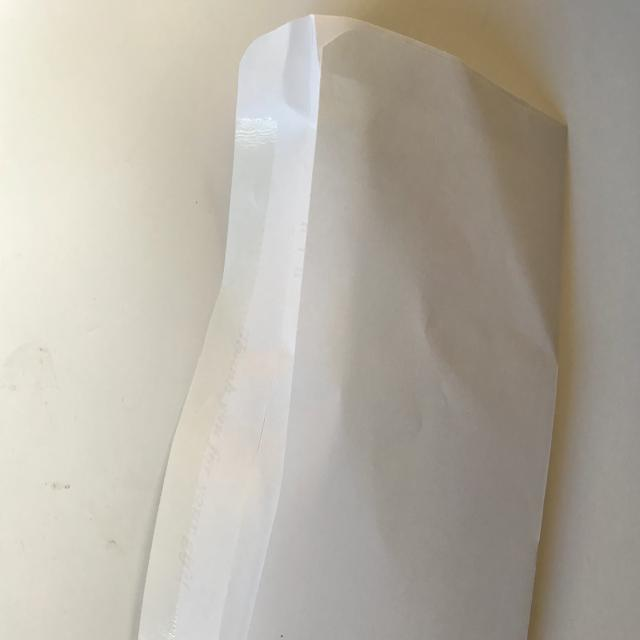paper: (117, 0, 587, 640)
